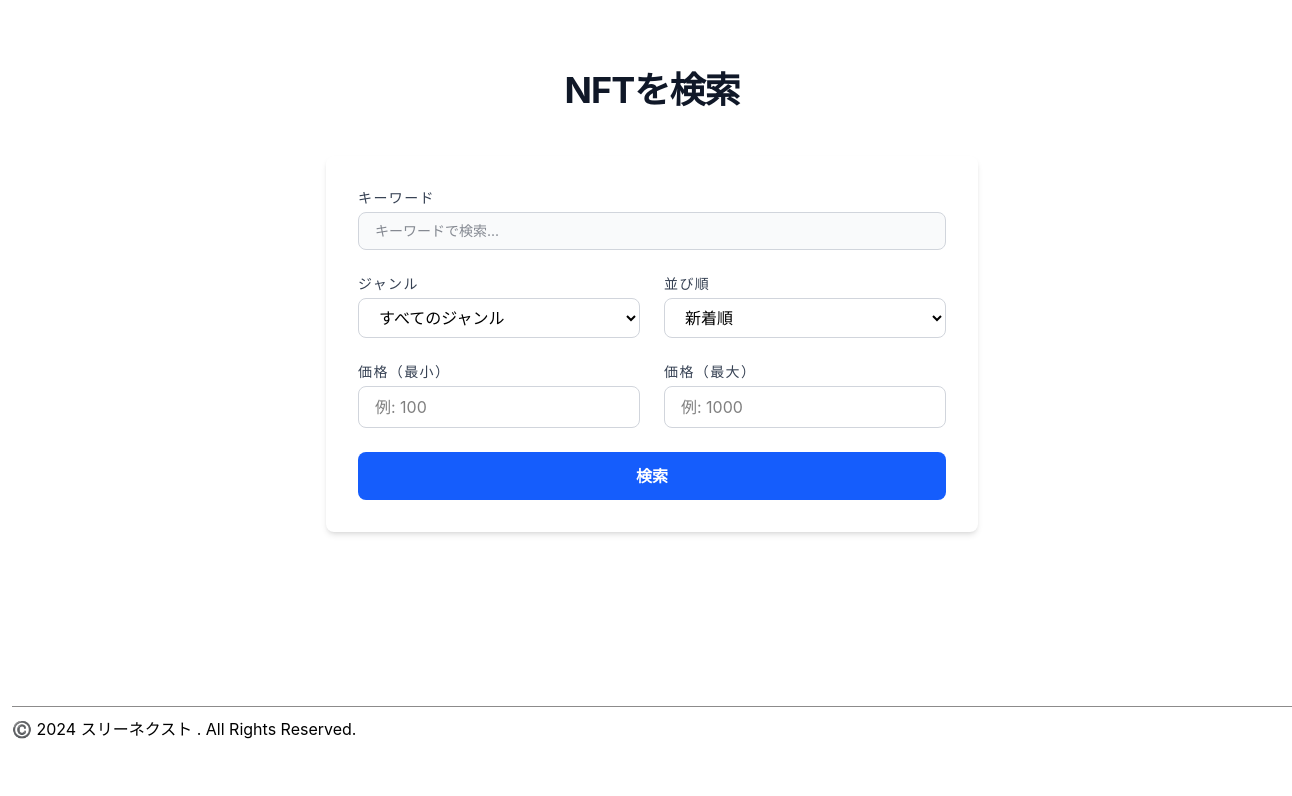
Test case: SearchPage › キーワードを入力して検索すると結果が表示されること
This screenshot has width=1292, height=796.
In the field with placeholder "キーワードで検索...": point(652, 231) [358, 212, 946, 250], type "Searched"
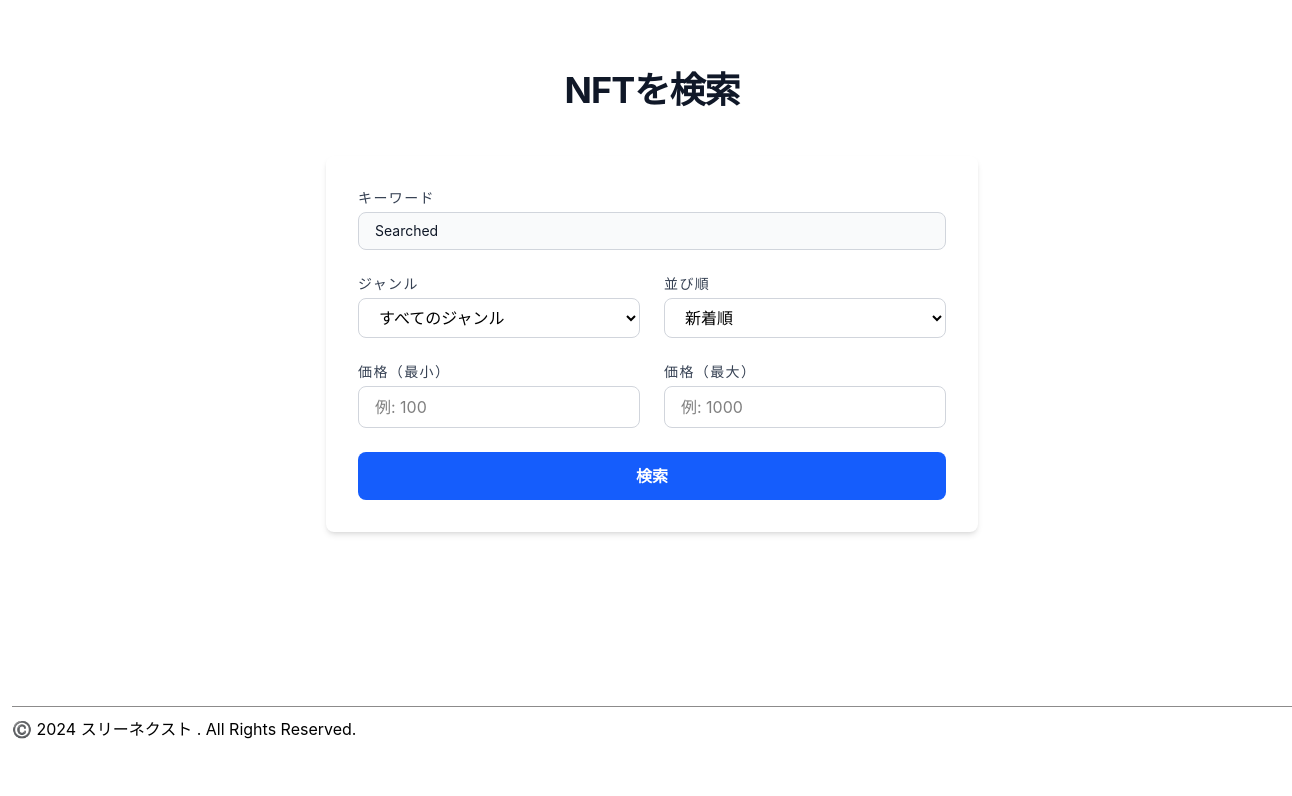
Click the button "検索": point(652, 476) [358, 452, 946, 500]
(page scrolled)
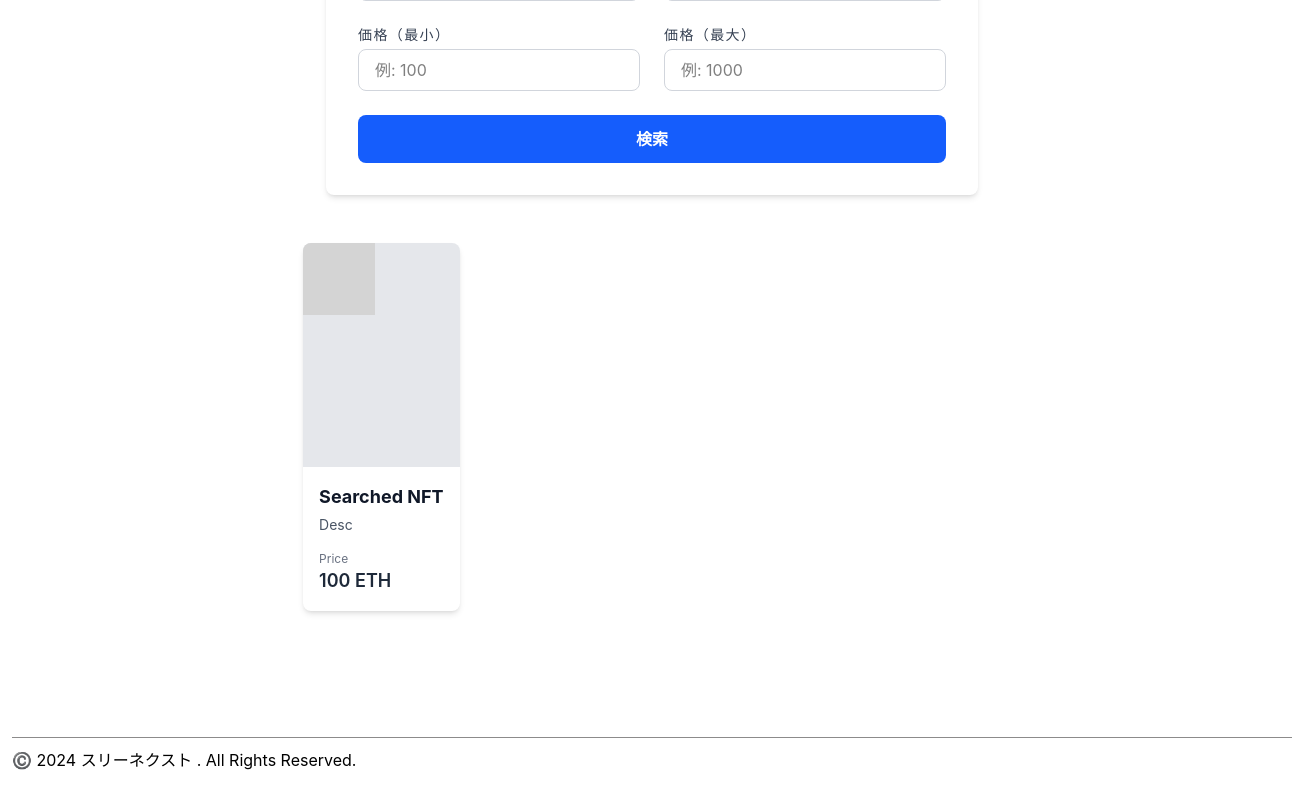
Now the heading "Searched NFT" is shown, box [319, 483, 444, 511]
